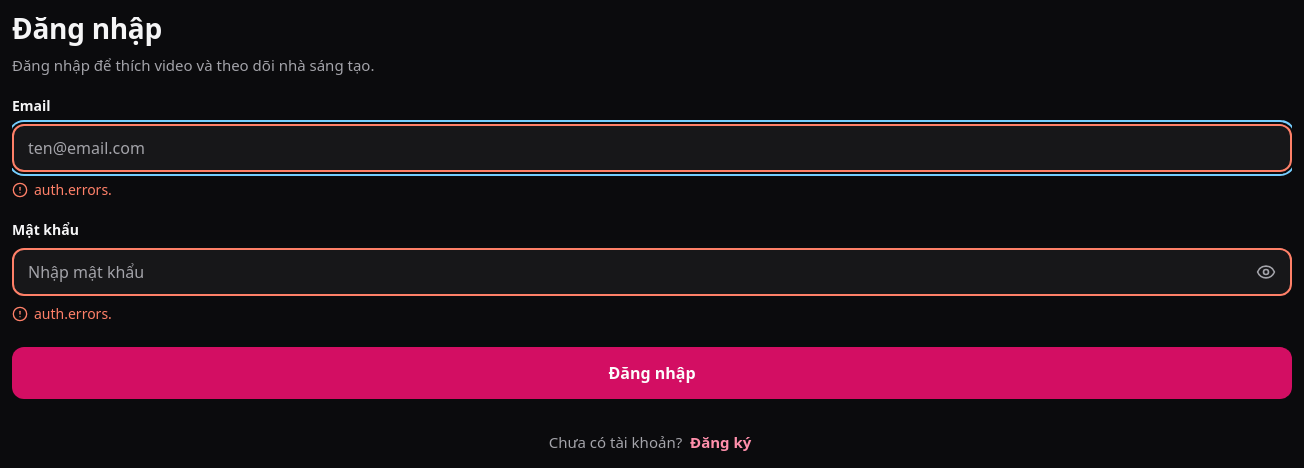
AuthForm › vi: a field error of the server shows on the password field and takes the focus
Step 1. Type "minhanh@gmail.com" into the field labelled "Email" → (652, 148), box 14,126 -> 1290,170
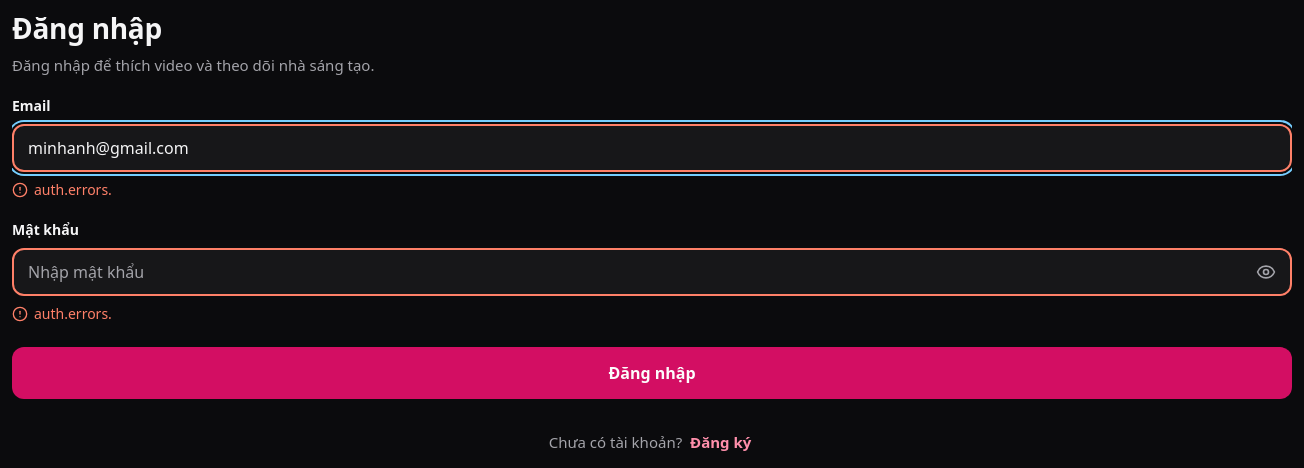
Step 2. Type "12345678" into the password field labelled "Mật khẩu" → (629, 272), box 14,250 -> 1244,294
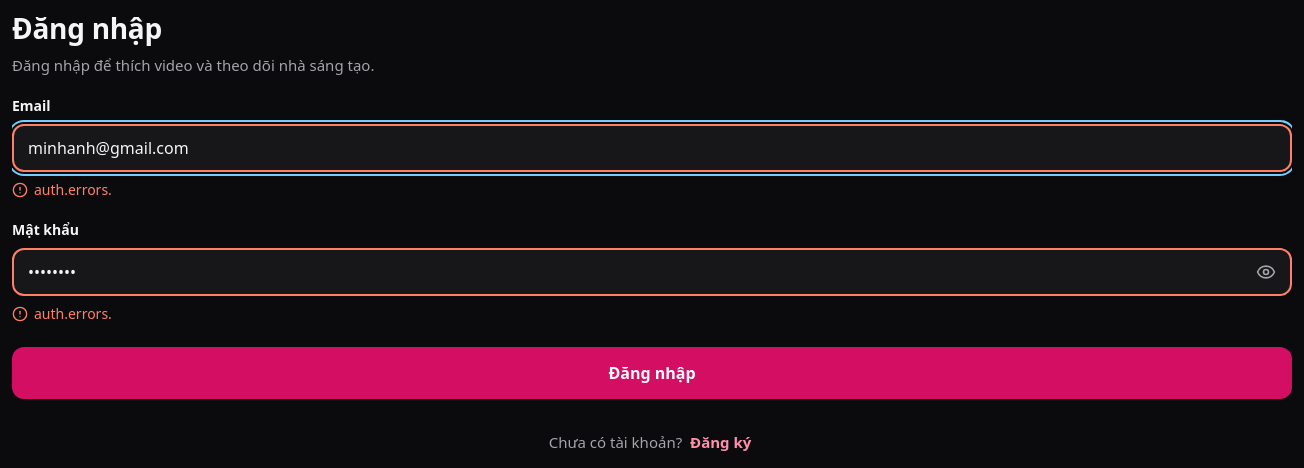
Step 3. Click the button "Đăng nhập" → (652, 373), box 12,347 -> 1292,399
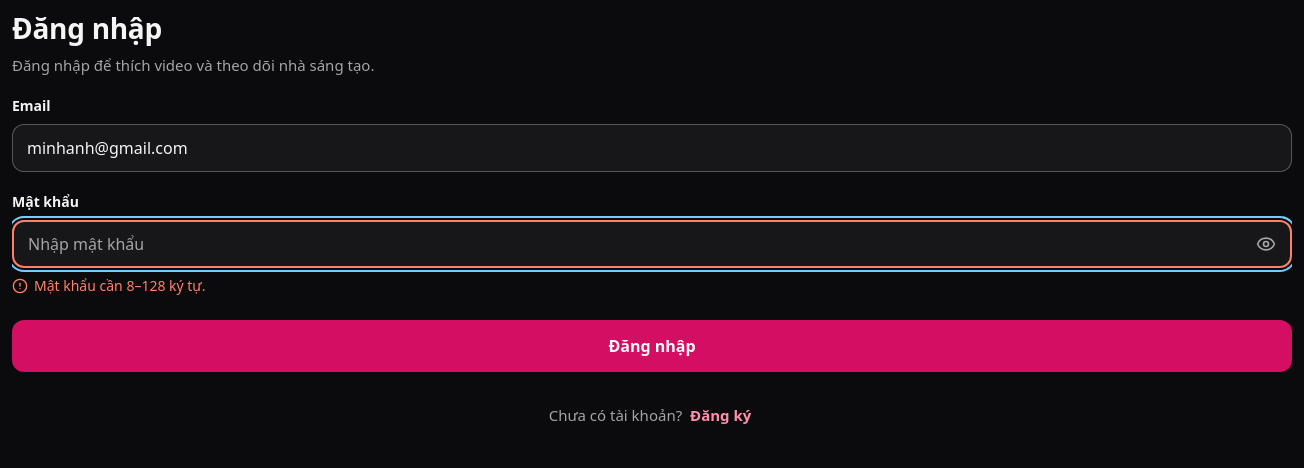
Result: the text "Mật khẩu cần 8–128 ký tự." is shown at 34,276 -> 206,296
